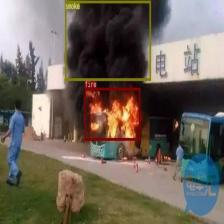fire: (84, 88, 140, 140)
smoke: (64, 0, 150, 80)
